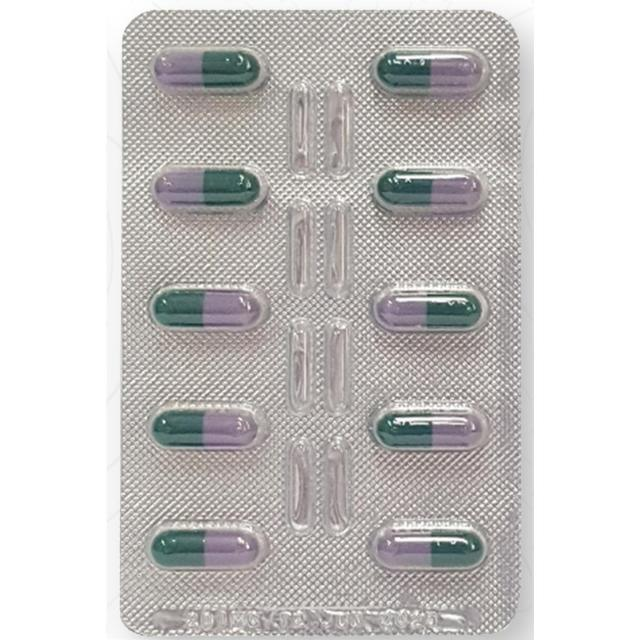blister: (110, 4, 526, 631)
